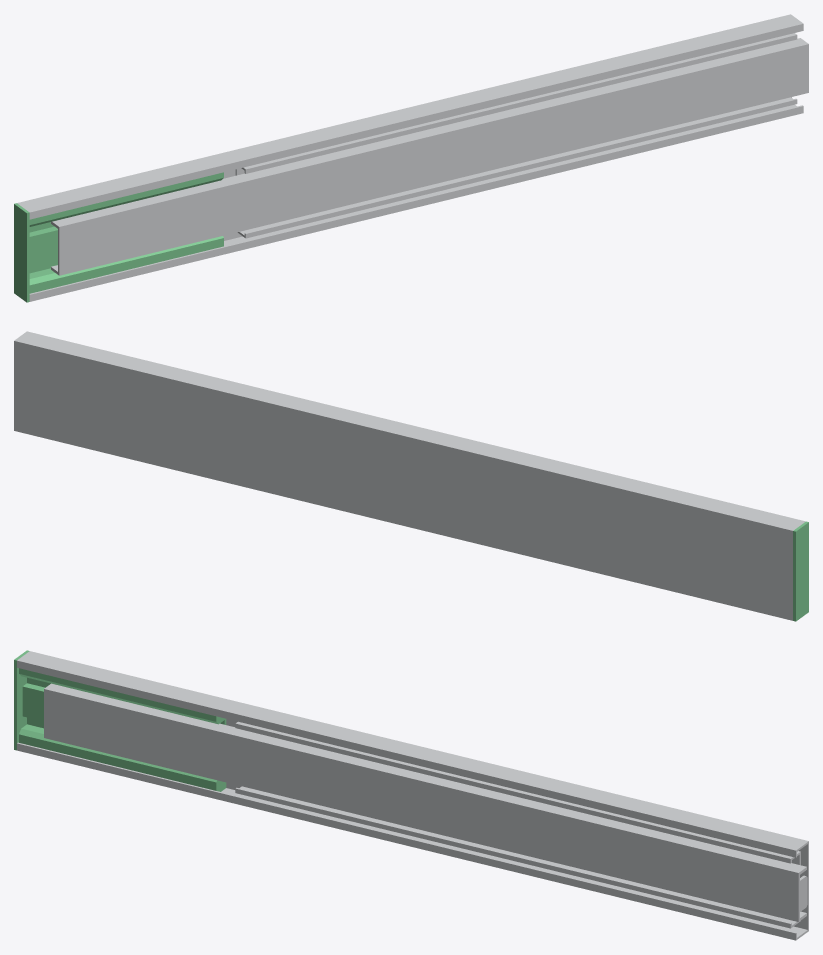
The picture shows the model from 3 angles, top to bottom: view 1: azimuth 30°, elevation 25°; view 2: azimuth 150°, elevation 25°; view 3: azimuth 330°, elevation 25°; orthographic projection.
Parts seen in each view (by area): view 1: 46e7f4dd40b1; view 2: 46e7f4dd40b1; view 3: 46e7f4dd40b1.
Boxes of the visible parts, x1,y1,x2,y2 form: 46e7f4dd40b1: [14, 14, 808, 302]; 46e7f4dd40b1: [14, 331, 808, 621]; 46e7f4dd40b1: [14, 650, 808, 940].
Size of the model in its own units: 402 by 44 by 12.7.
